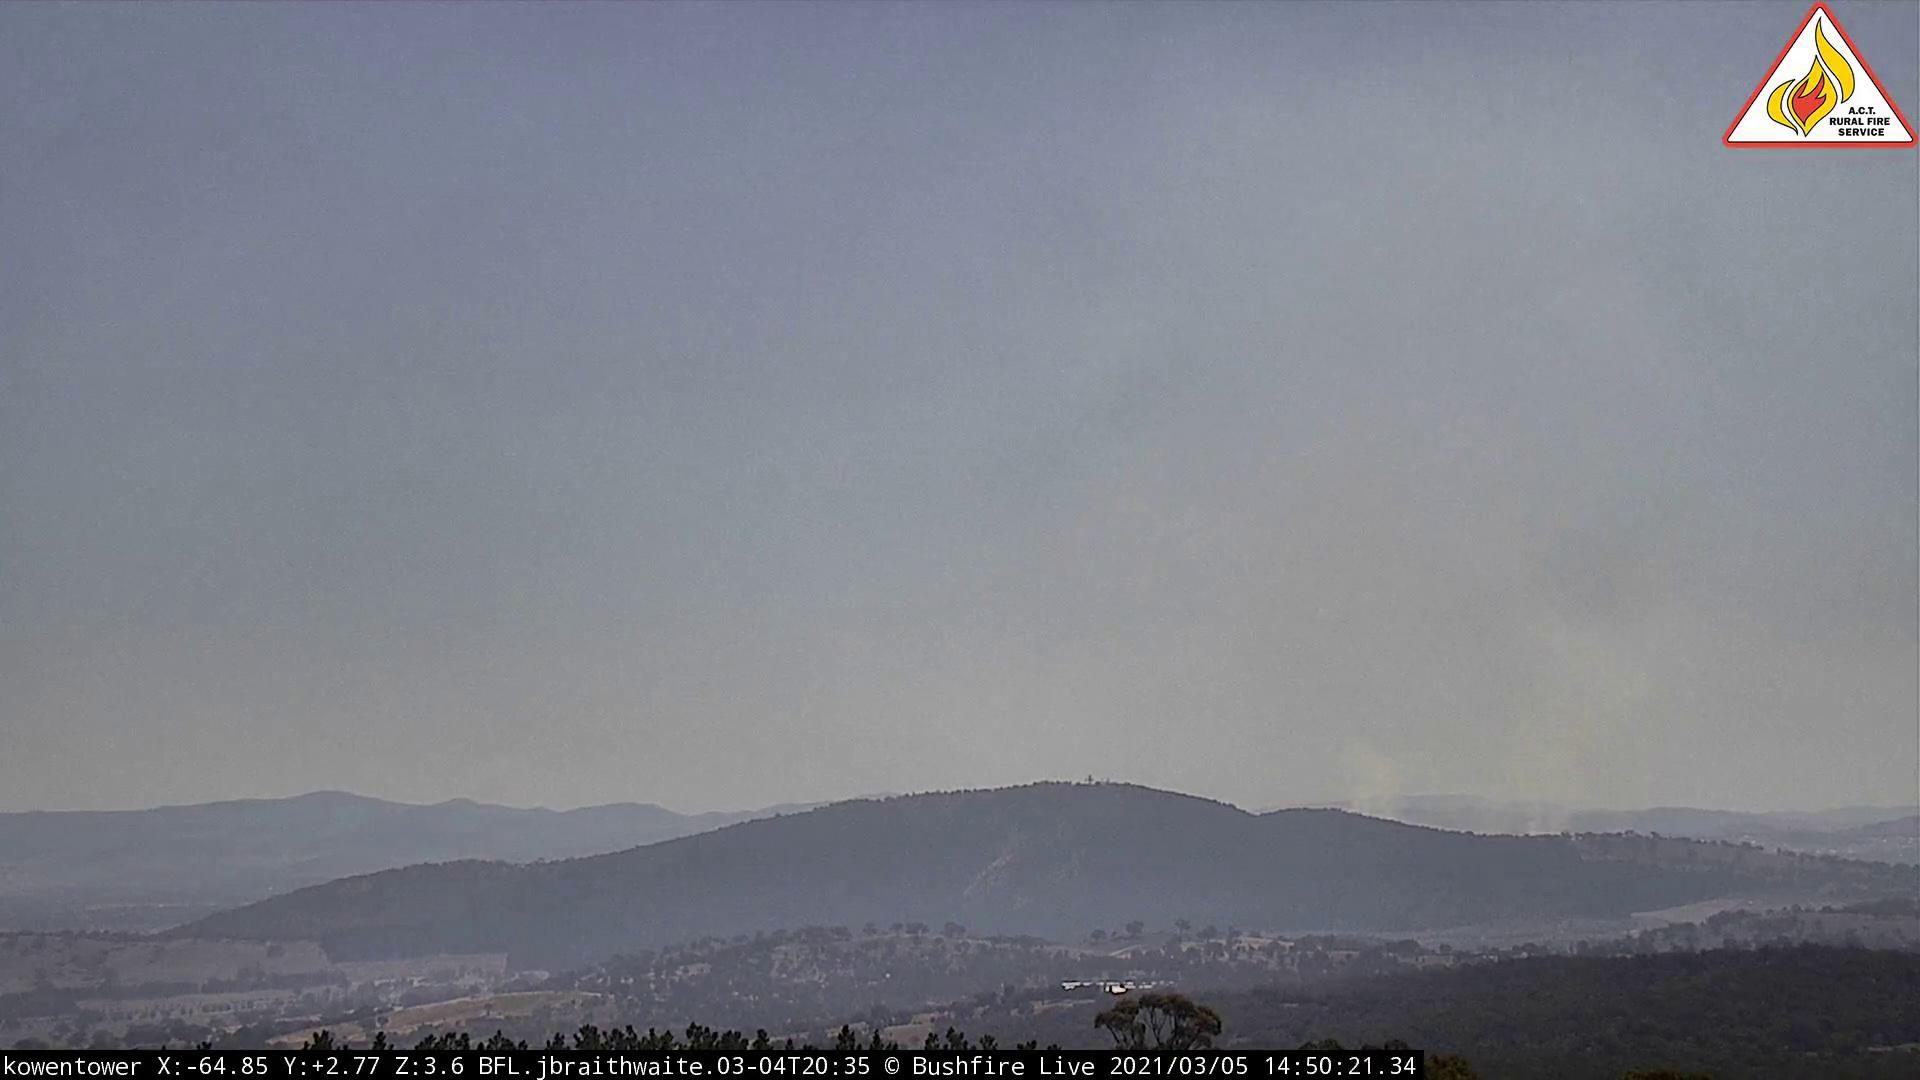Smoke: (1212, 452, 1789, 841)
